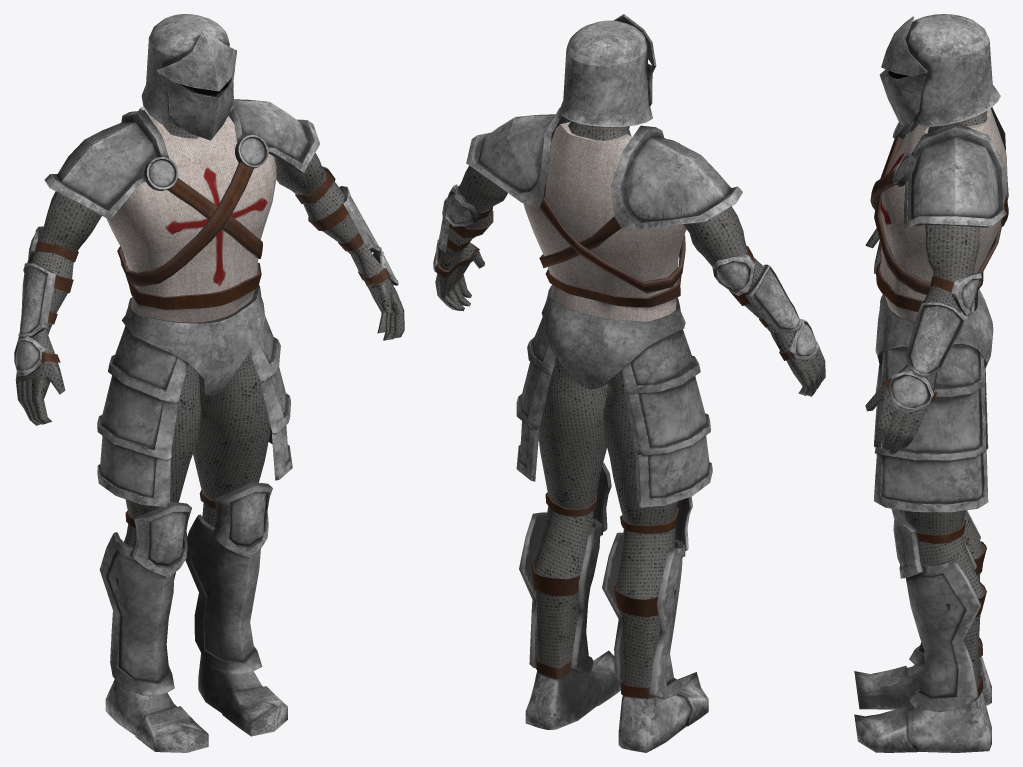
The model's file is knight_model_textured.fbx.
3 renders of one model, left to right at view 1: azimuth 30°, elevation 25°; view 2: azimuth 150°, elevation 25°; view 3: azimuth 270°, elevation 25°, orthographic.
Parts seen in each view (by area): view 1: polySurface97; view 2: polySurface97; view 3: polySurface97.
Part boxes in pixels (bbox=[...]): polySurface97: bbox=[14, 14, 404, 752]; polySurface97: bbox=[433, 14, 825, 752]; polySurface97: bbox=[854, 14, 1008, 752].
Bounding box in the file's own units: 113 × 198 × 39.39.
